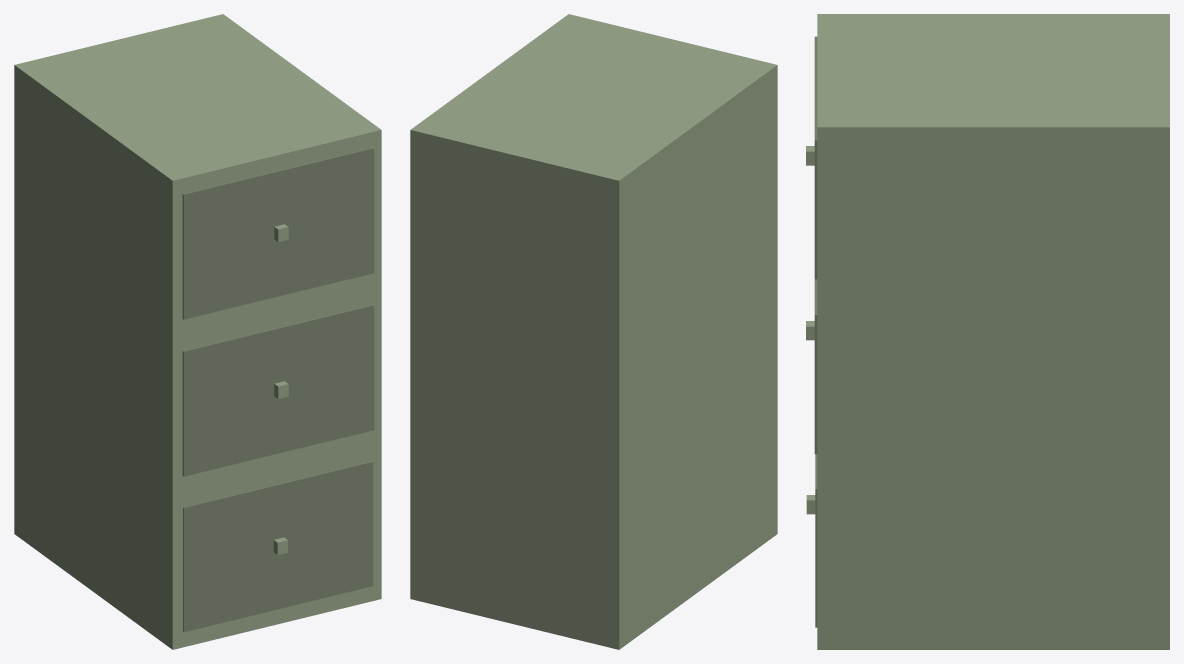
The model's file is dolap_green.fbx.
The picture shows the model from 3 angles, left to right: view 1: azimuth 30°, elevation 25°; view 2: azimuth 150°, elevation 25°; view 3: azimuth 270°, elevation 25°; orthographic projection. The views are drawn at different scales.
Parts seen in each view (by area): view 1: dolap_green; view 2: dolap_green; view 3: dolap_green.
Part boxes in pixels (x1,y1,x2,y2): dolap_green: [14, 14, 381, 649]; dolap_green: [410, 14, 777, 649]; dolap_green: [806, 14, 1169, 649].
Size of the model in its own units: 53.91 by 116 by 73.07.
